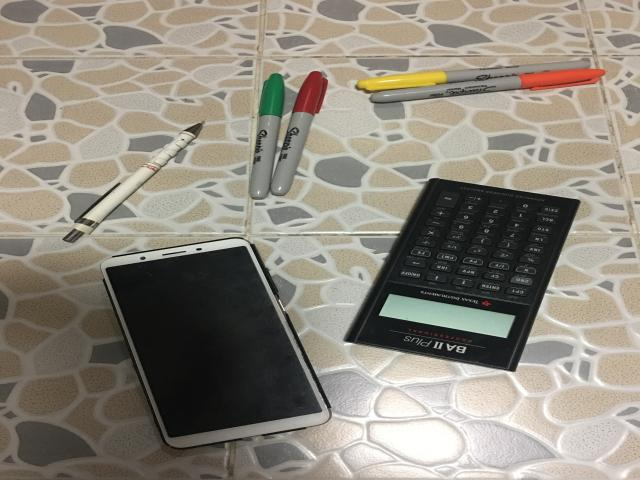Mobile phone: (100, 238, 332, 448)
Pen: (63, 122, 203, 243), (357, 60, 605, 103), (270, 71, 328, 196), (248, 73, 285, 200)
